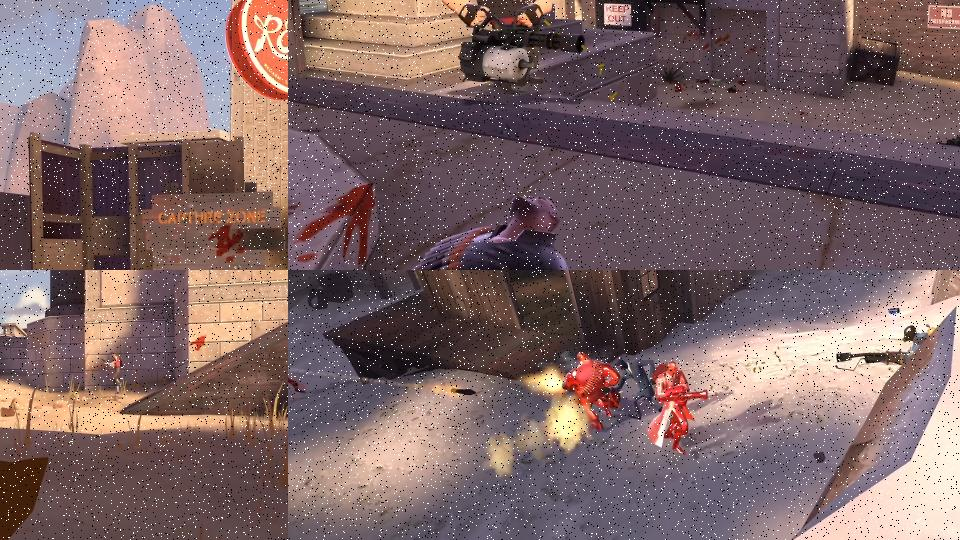Enemy: (437, 0, 586, 89), (647, 361, 709, 456), (836, 324, 935, 371), (563, 352, 621, 430), (602, 359, 662, 420), (100, 352, 124, 395)
